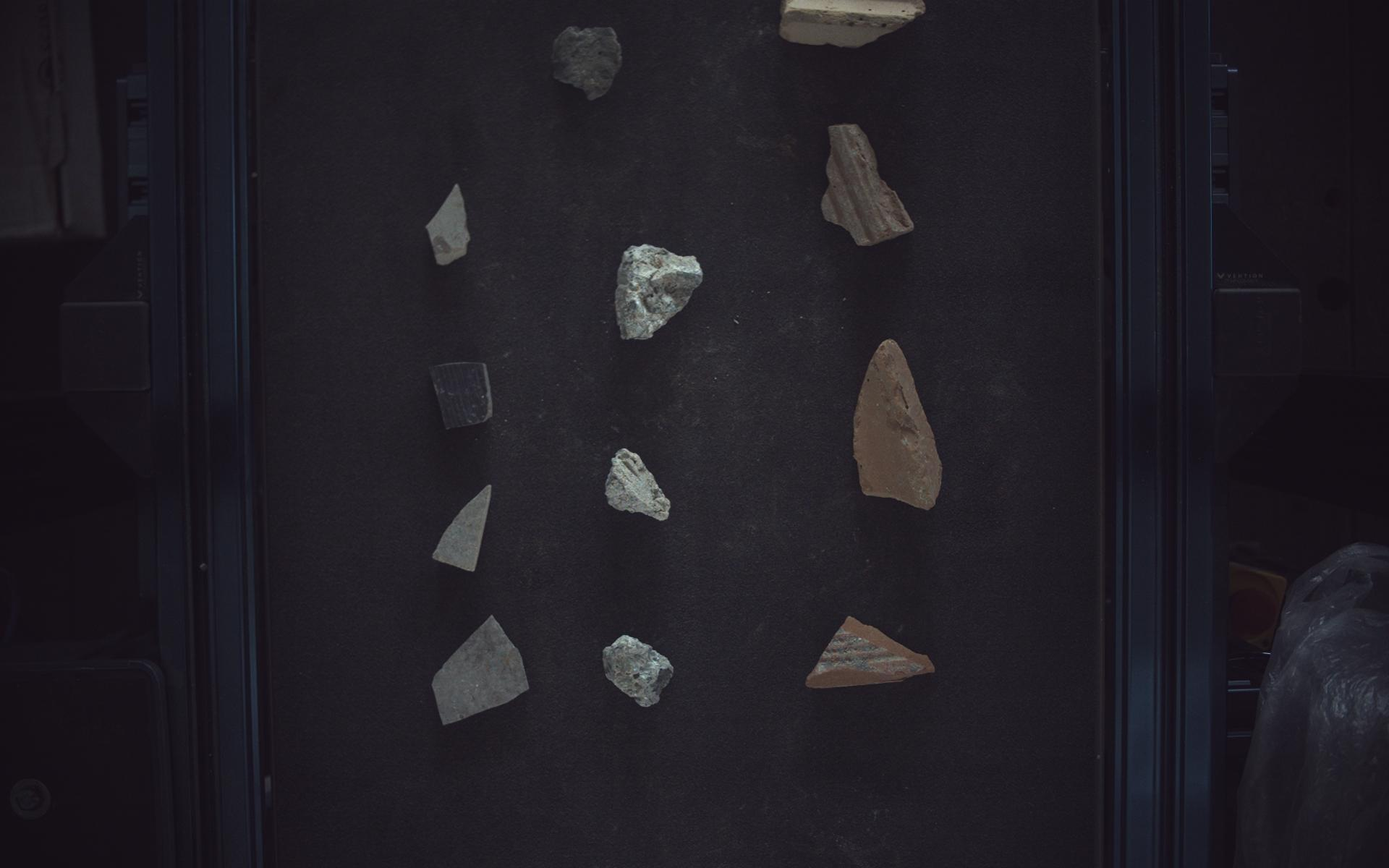brick: (855, 339, 943, 510), (823, 123, 916, 245), (807, 617, 937, 689), (781, 1, 927, 46)
concrete: (616, 244, 703, 339), (604, 636, 674, 708), (553, 25, 621, 98), (606, 448, 671, 521)
tile: (432, 616, 530, 726), (433, 485, 492, 572), (430, 362, 492, 430), (426, 183, 470, 265)
